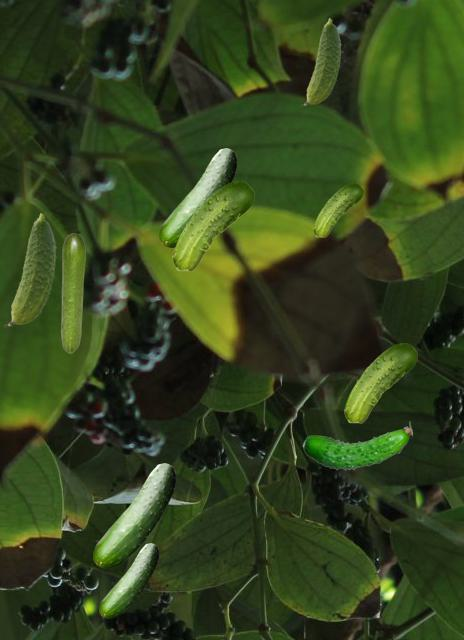cucumber: (93, 463, 174, 567), (159, 148, 235, 246), (172, 181, 253, 270), (4, 213, 55, 326), (344, 343, 416, 422), (302, 421, 411, 469), (99, 543, 157, 617), (301, 18, 340, 105), (61, 233, 84, 352), (313, 183, 362, 236)
